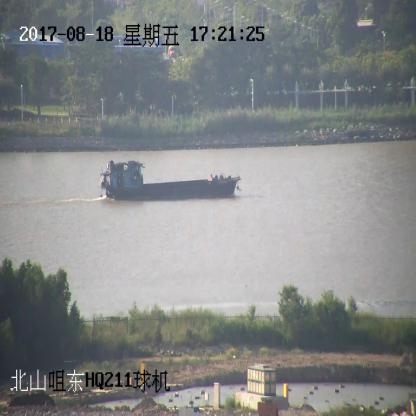Bulk Carrier: (101, 162, 241, 202)
